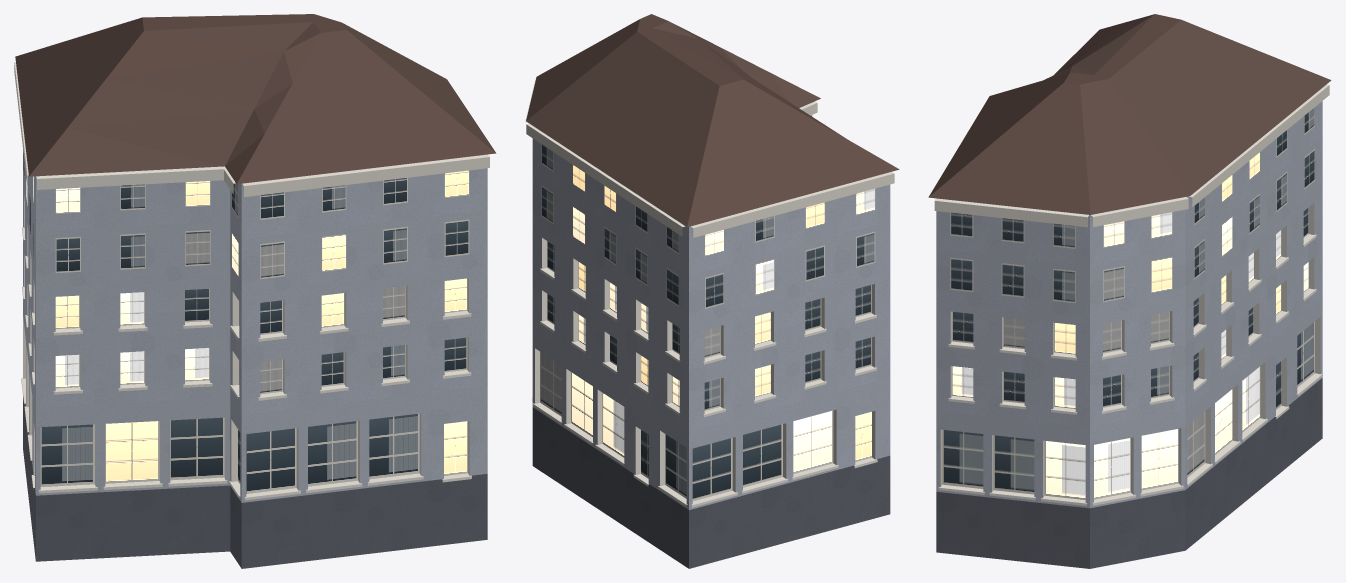
The model's file is z5R2_baden_sw_blue.glb.
3 views of the same model, side by side, from view 1: azimuth 30°, elevation 25°; view 2: azimuth 150°, elevation 25°; view 3: azimuth 270°, elevation 25° (orthographic). The views are drawn at different scales.
Parts seen in each view (by area): view 1: z5R2_baden_sw_blue; view 2: z5R2_baden_sw_blue; view 3: z5R2_baden_sw_blue.
Part boxes in pixels (x1=…): z5R2_baden_sw_blue: x1=14, y1=14, x2=496, y2=568; z5R2_baden_sw_blue: x1=525, y1=14, x2=899, y2=568; z5R2_baden_sw_blue: x1=928, y1=14, x2=1331, y2=568.
Bounding box in the file's own units: 19.68 × 21.65 × 18.08.
Materials: 3 (3 with a texture image).
